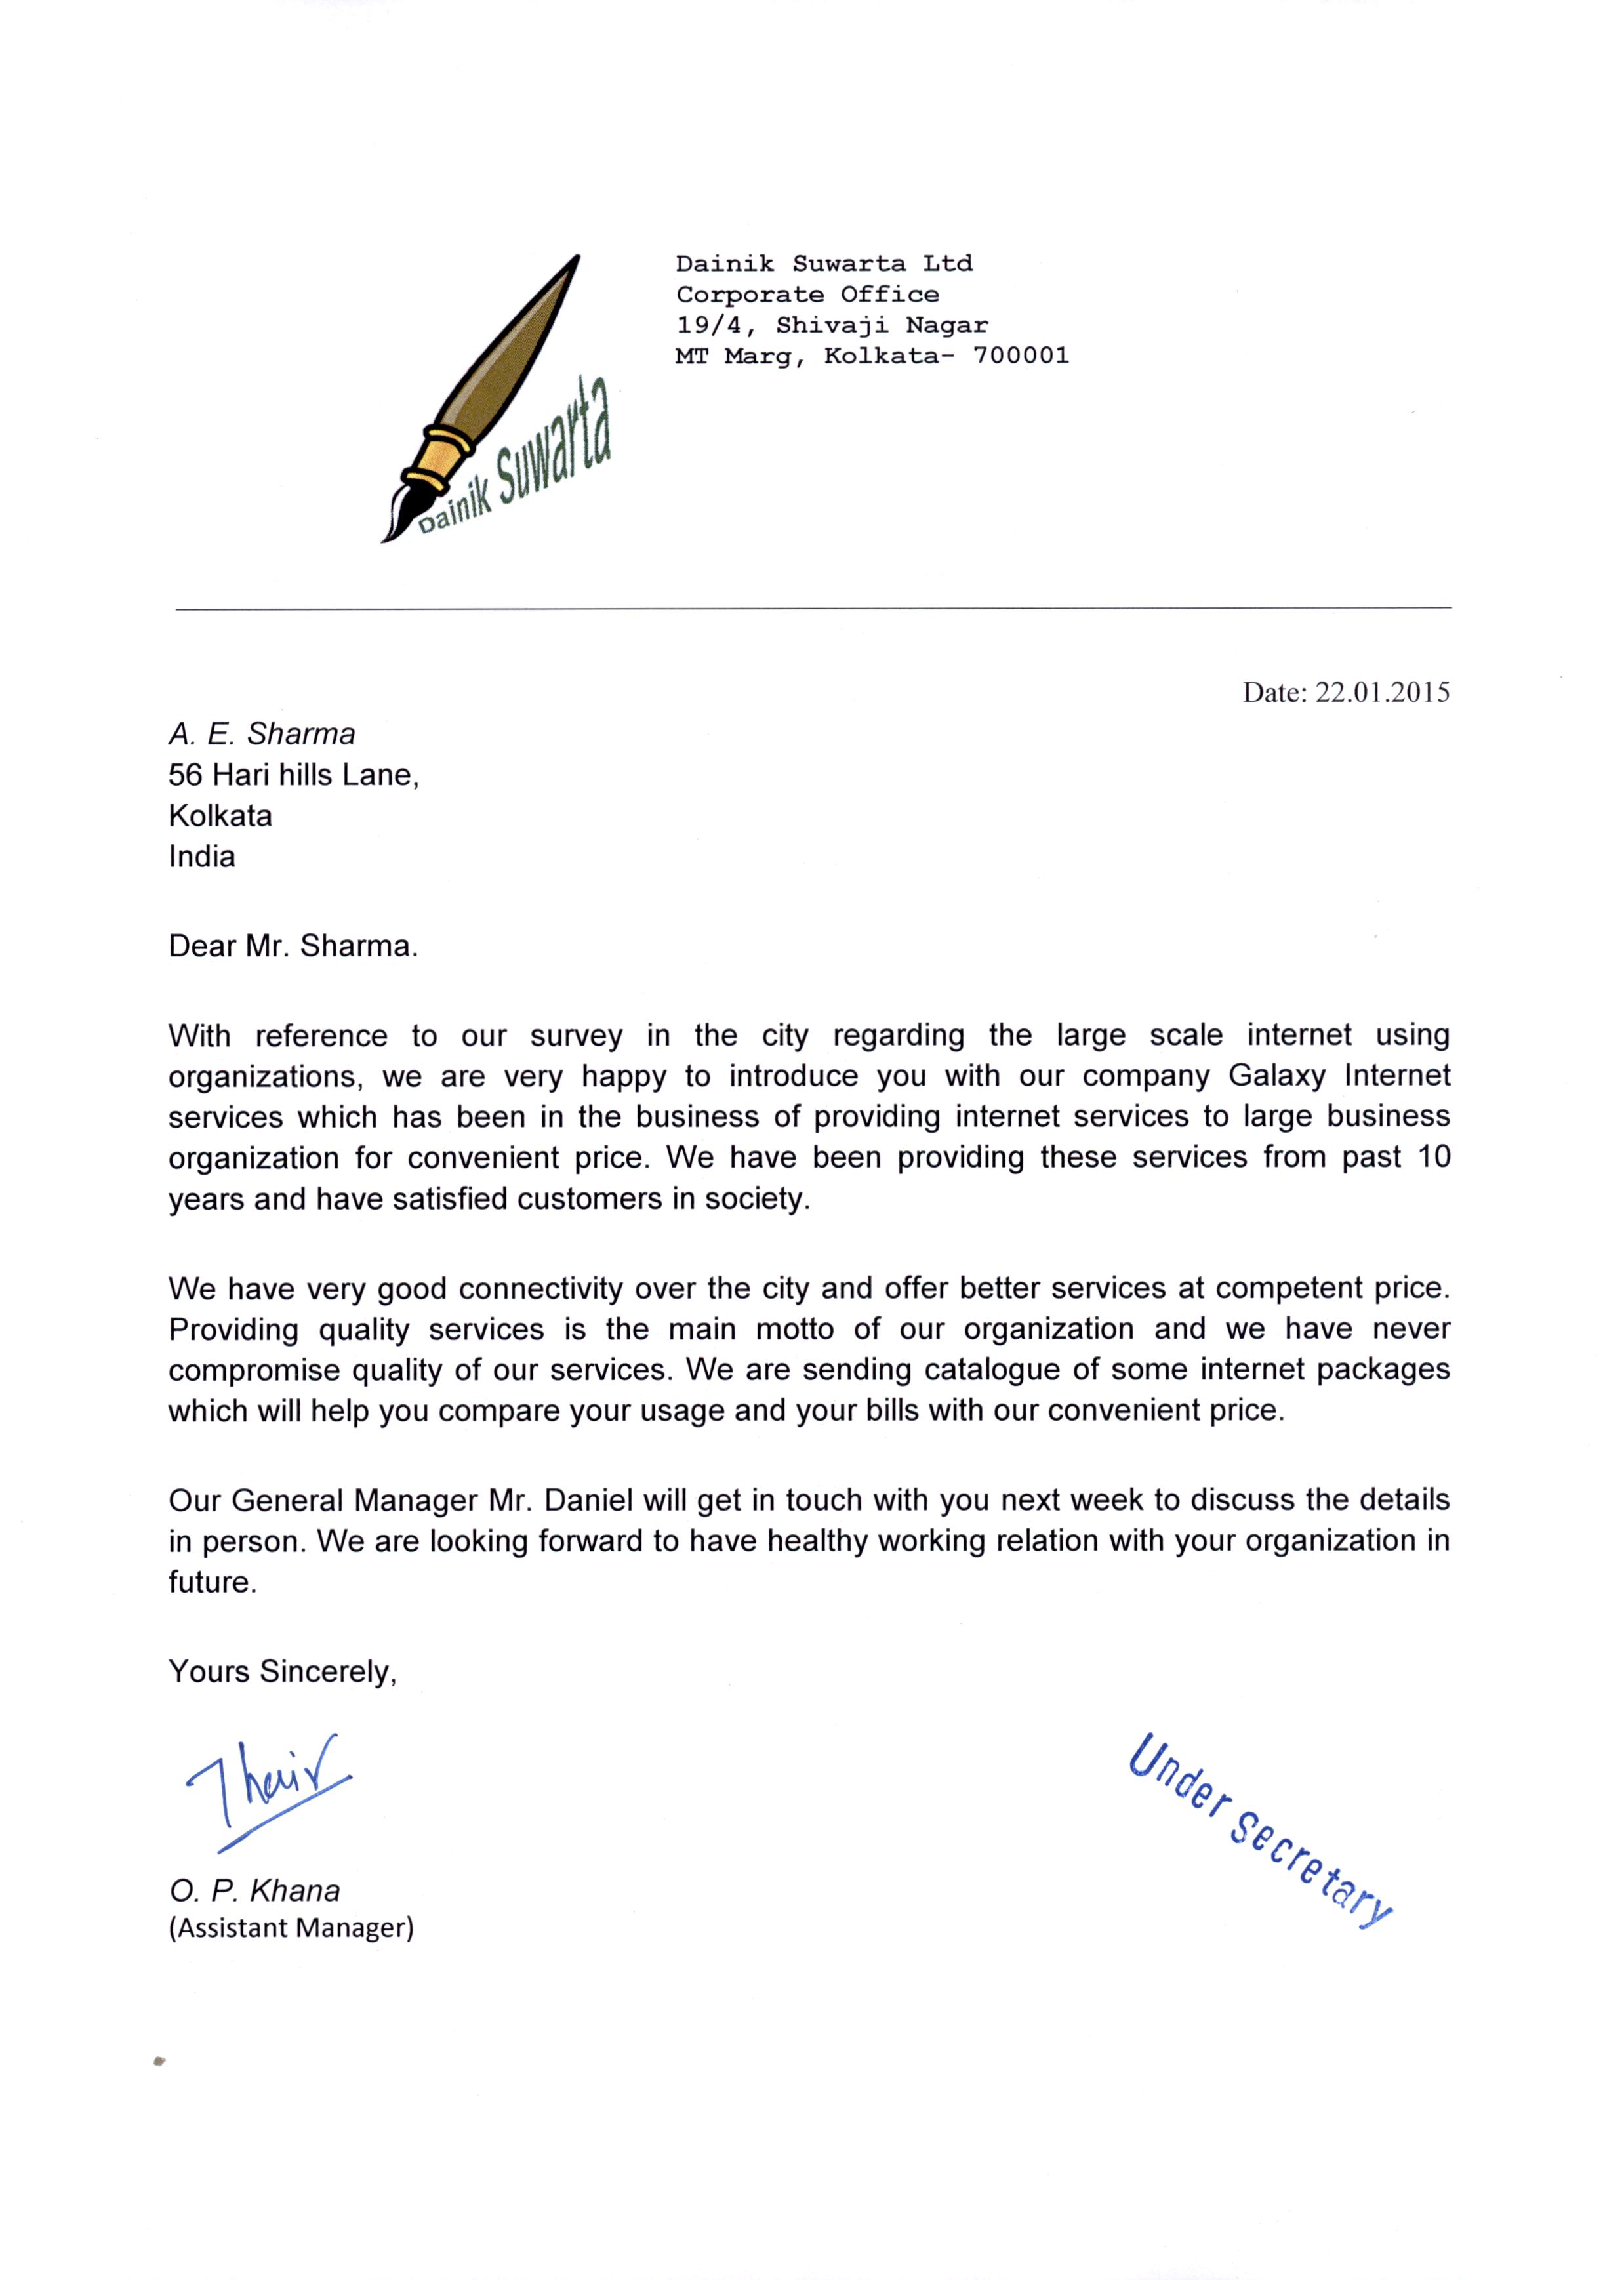Signature: (174, 1723, 364, 1863)
